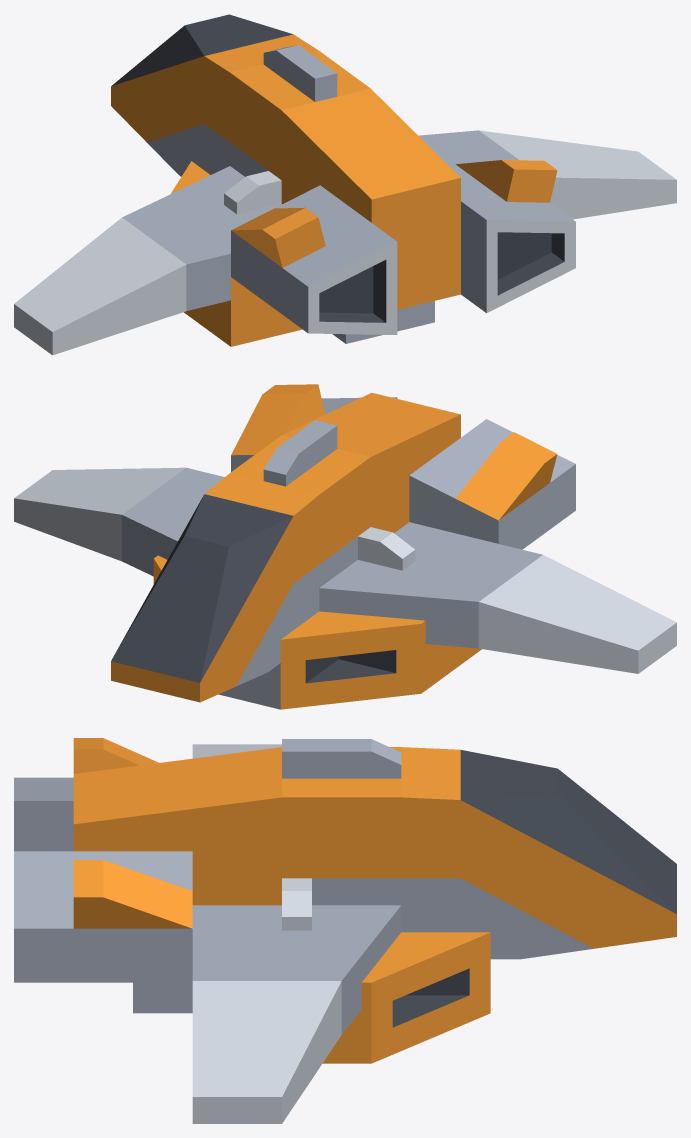
File: craft_speederD.fbx
3 views of the same model, one above another, from view 1: azimuth 30°, elevation 25°; view 2: azimuth 150°, elevation 25°; view 3: azimuth 270°, elevation 25° (orthographic). The views are drawn at different scales.
Visible parts, largest first — view 1: craft_speederD; view 2: craft_speederD; view 3: craft_speederD.
Part boxes in pixels (<box>): craft_speederD: <box>14,14,676,355</box>; craft_speederD: <box>14,384,676,709</box>; craft_speederD: <box>14,738,676,1123</box>.
Bounding box in the file's own units: 28 × 9 × 22.26.
